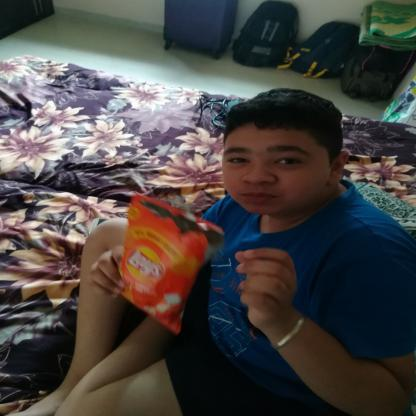hot_and_sweet: (119, 195, 214, 335)
